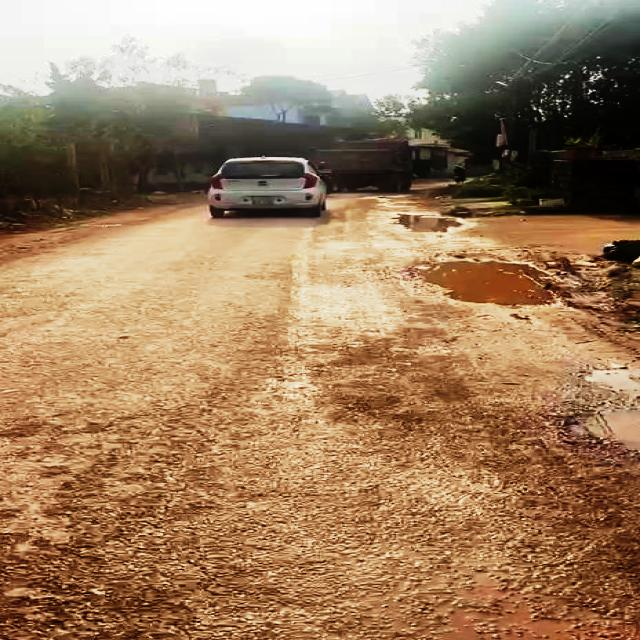pothole: (392, 254, 570, 311), (547, 359, 640, 455), (392, 212, 463, 236)
